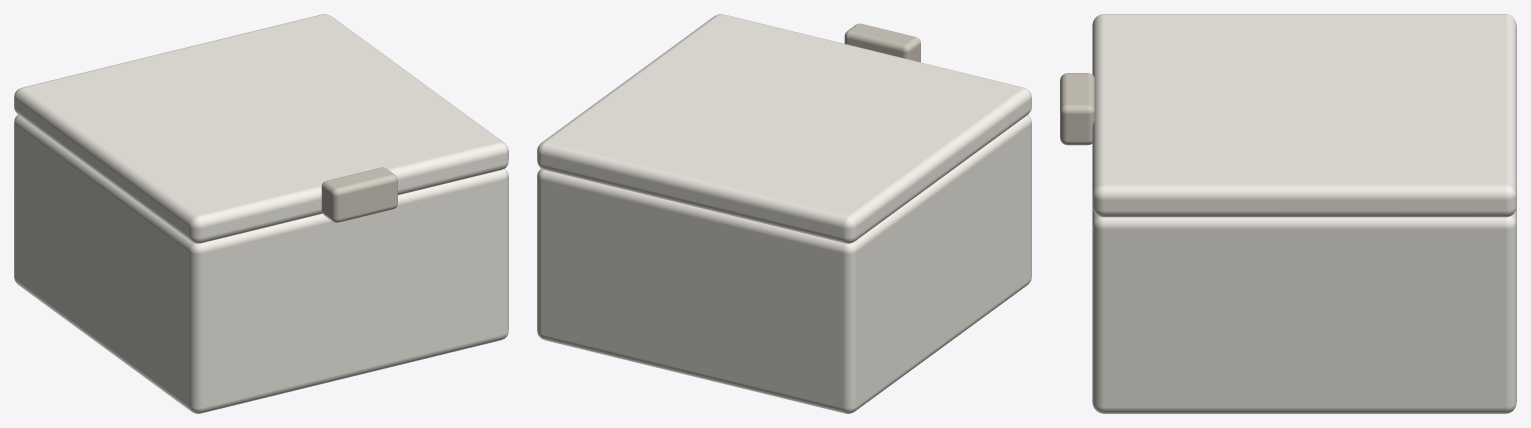
The model's file is SM_IngredientBin.glb.
3 renders of one model, left to right at view 1: azimuth 30°, elevation 25°; view 2: azimuth 150°, elevation 25°; view 3: azimuth 270°, elevation 25°, orthographic. The views are drawn at different scales.
Visible parts, largest first — view 1: SM_IngredientBin, SM_IngredientBin.Lid; view 2: SM_IngredientBin, SM_IngredientBin.Lid; view 3: SM_IngredientBin.Lid, SM_IngredientBin.
Part boxes in pixels (<box>): SM_IngredientBin: <box>14,115,508,413</box>; SM_IngredientBin.Lid: <box>14,14,508,243</box>; SM_IngredientBin: <box>537,115,1031,413</box>; SM_IngredientBin.Lid: <box>537,14,1031,243</box>; SM_IngredientBin.Lid: <box>1060,14,1516,217</box>; SM_IngredientBin: <box>1092,206,1516,413</box>.
Size of the model in its own units: 0.29 by 0.18 by 0.312.
Materials: 1 (1 with a texture image).
